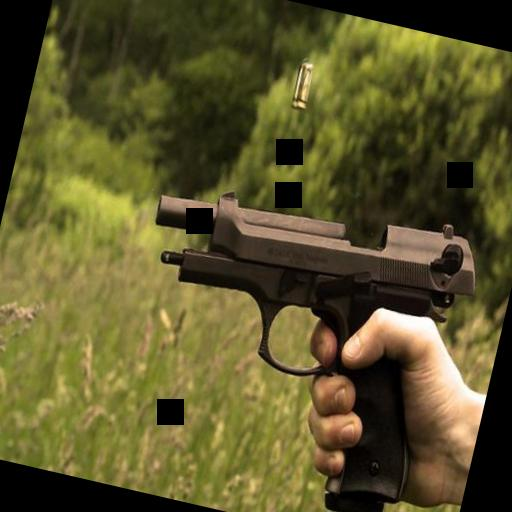Handgun: (98, 158, 489, 512)
